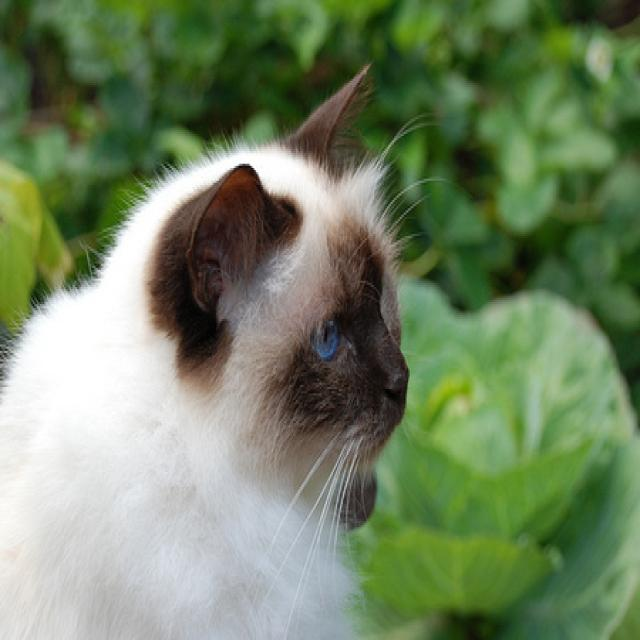Birman: (0, 55, 414, 640)
